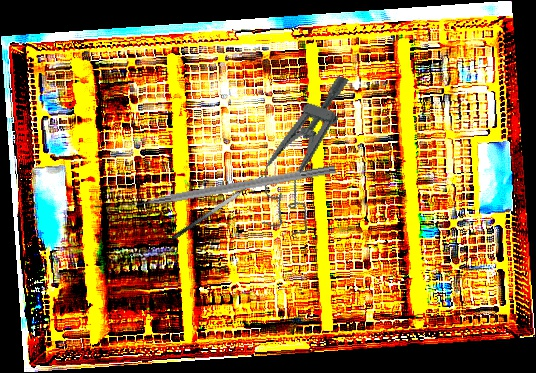Hook Surgical: (112, 162, 337, 214)
Spatula Surgical: (165, 167, 269, 242)
Speculum: (246, 63, 361, 241)
